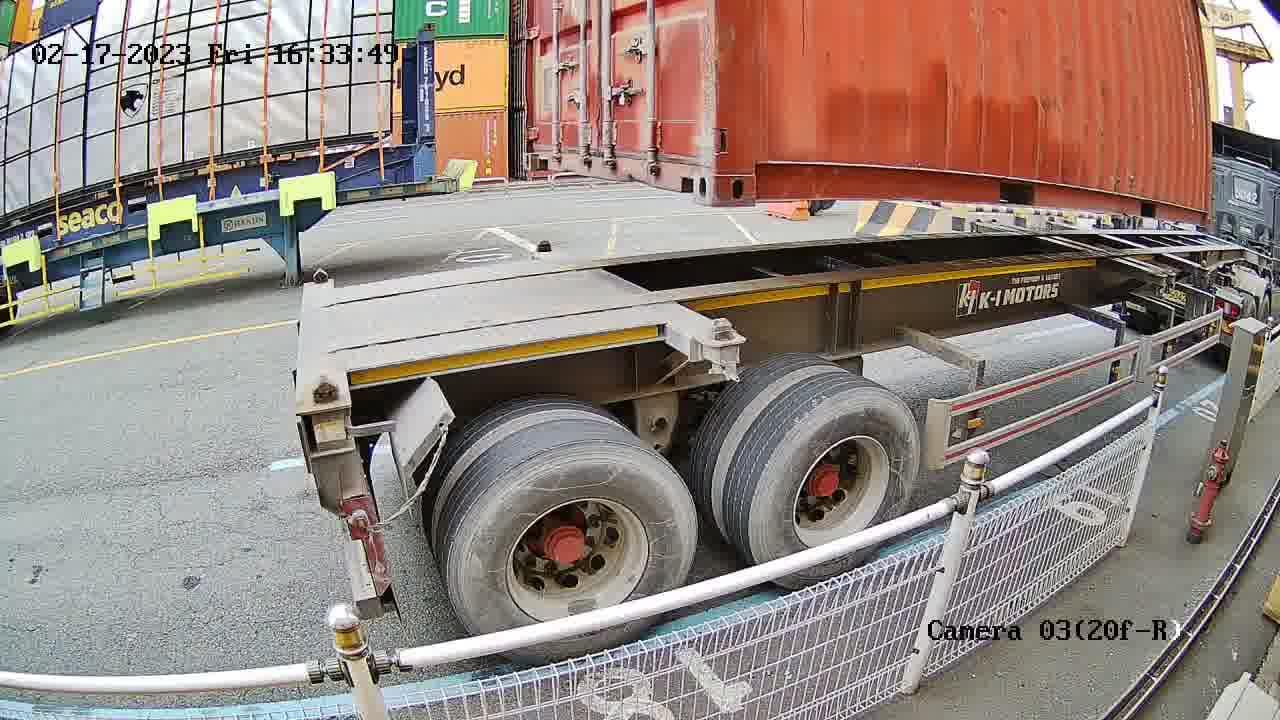Chassis: (531, 250, 736, 360)
Cone: (701, 317, 745, 390), (531, 238, 559, 256)
Hole_L: (718, 133, 802, 203), (524, 130, 559, 173)
Hole_R: (666, 130, 719, 203)
Tire: (451, 444, 697, 668), (749, 388, 924, 586)
